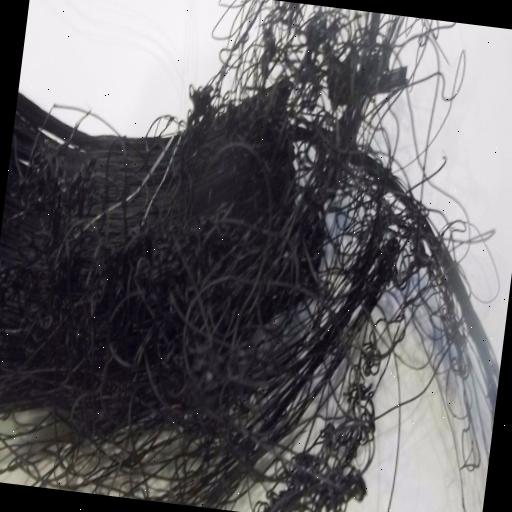spaghetti: (0, 0, 490, 512)
